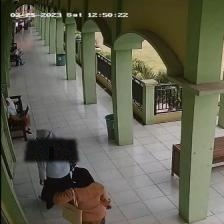Cadar_Niqab: (24, 127, 79, 161)
